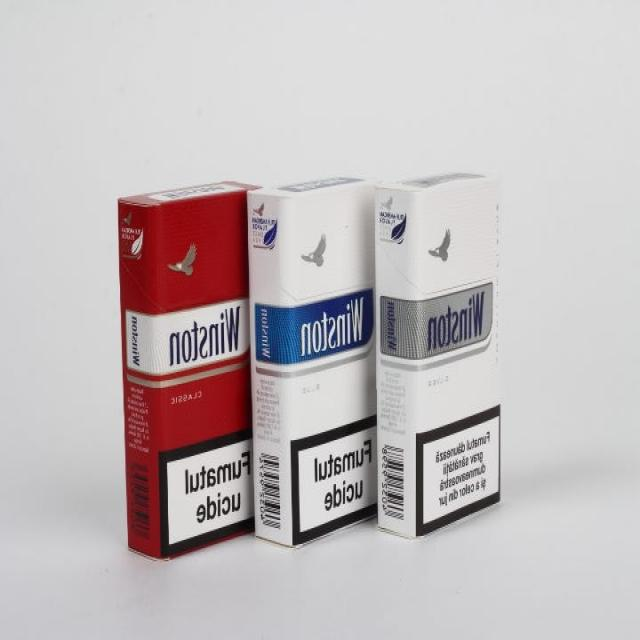winston: (246, 153, 381, 538), (120, 184, 253, 552), (373, 170, 504, 532)
